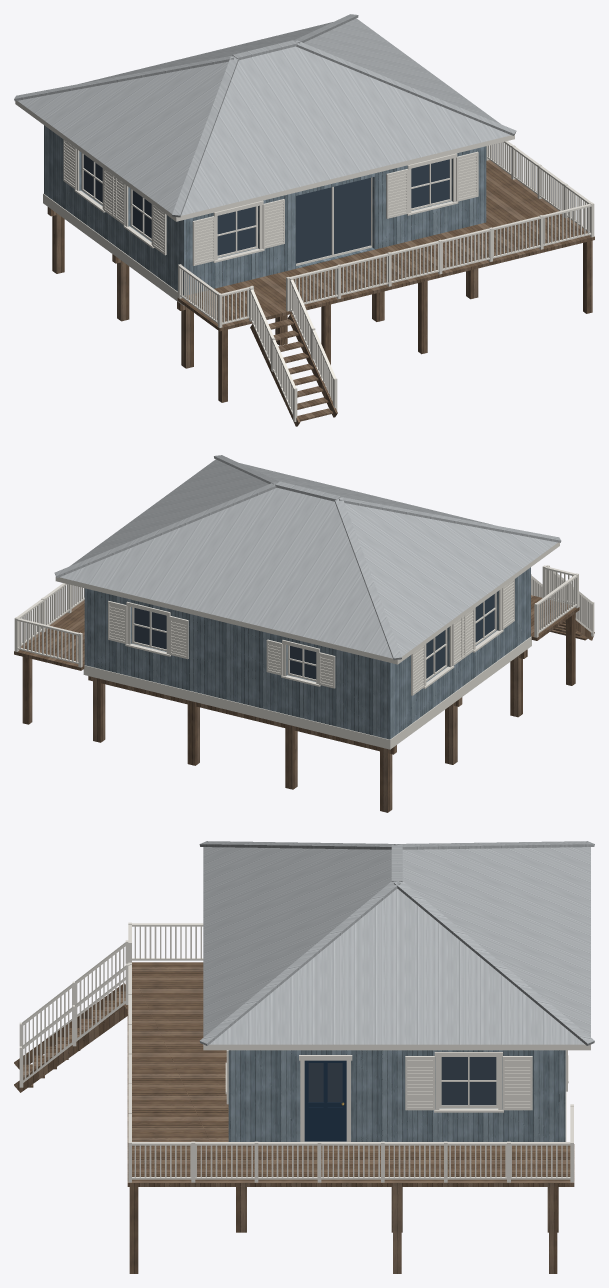
The model's file is beach-house.glb.
3 renders of one model, top to bottom at view 1: azimuth 30°, elevation 25°; view 2: azimuth 150°, elevation 25°; view 3: azimuth 270°, elevation 25°, orthographic. The views are drawn at different scales.
Visible parts, largest first — view 1: Beach_House; view 2: Beach_House; view 3: Beach_House.
Boxes of the visible parts, x1=… form: Beach_House: x1=14, y1=14, x2=594, y2=426; Beach_House: x1=14, y1=455, x2=594, y2=812; Beach_House: x1=14, y1=841, x2=594, y2=1273.
Bounding box in the file's own units: 12.89 × 7.42 × 13.79.
10 materials, 4 textured.
